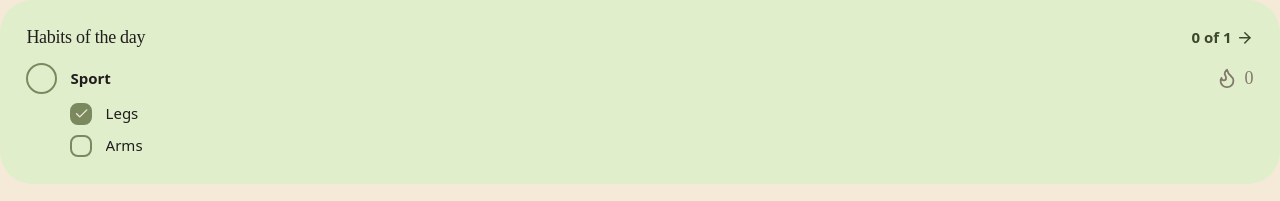
Test: the parts of a habit › ticks the parts with the habit, and clears them with an un-tick
The width and height of the screenshot is (1280, 201).
Click the checkbox named "Sport" at (42, 78), box [26, 63, 57, 94]
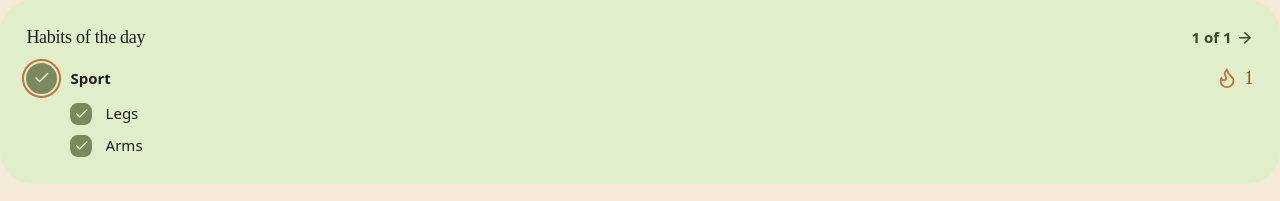
Expected: the checkbox named "Sport: Legs" is checked, [70, 103, 92, 125]
Now the checkbox named "Sport: Arms" is checked, box [70, 135, 92, 157]
Click the checkbox named "Sport" at (42, 78), box [26, 63, 57, 94]
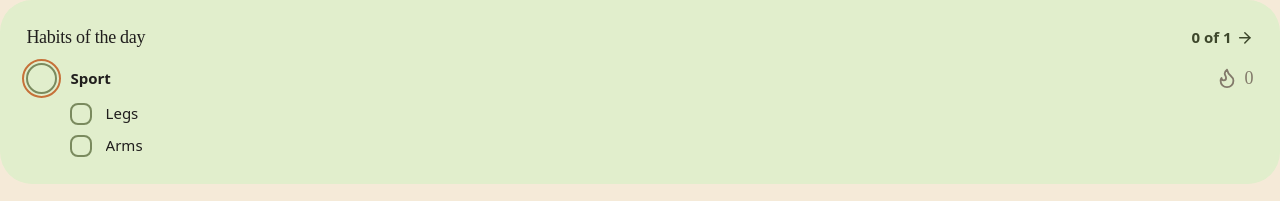
Now the checkbox named "Sport: Legs" is not checked, box [70, 103, 92, 125]
Now the checkbox named "Sport: Arms" is not checked, box [70, 135, 92, 157]
